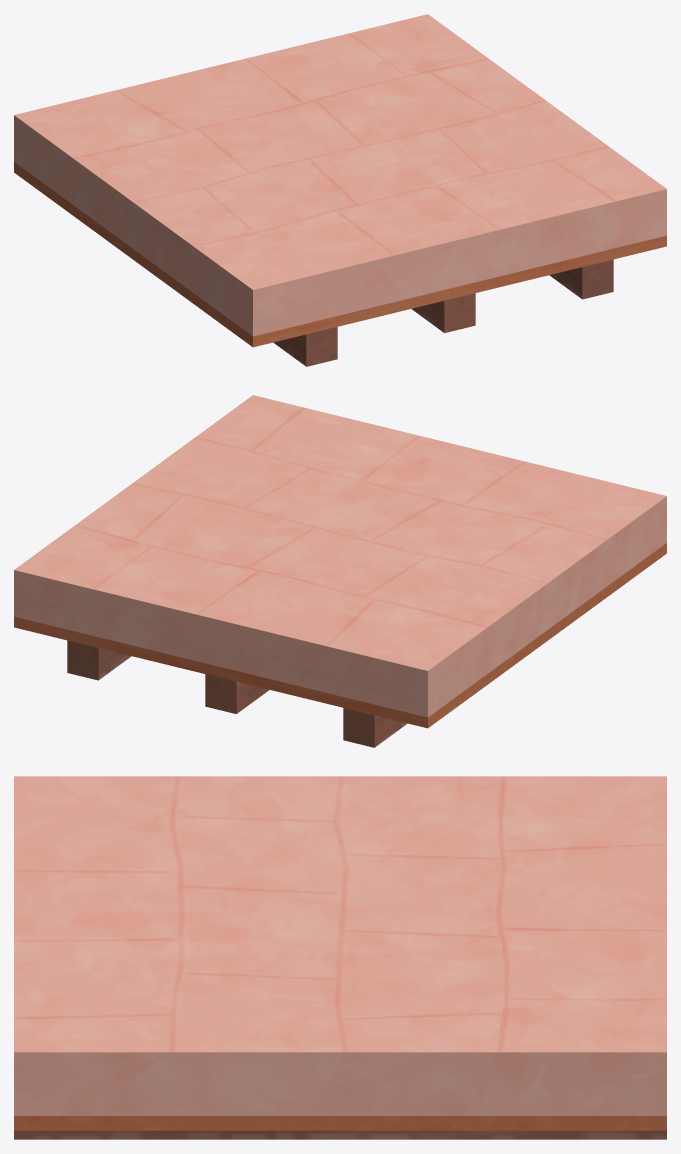
File: floor.bundle.fbx
3 renders of one model, top to bottom at view 1: azimuth 30°, elevation 25°; view 2: azimuth 150°, elevation 25°; view 3: azimuth 270°, elevation 25°, orthographic. The views are drawn at different scales.
Parts seen in each view (by area): view 1: floor, floor_s03, floor_s04, floor_s00, floor_s06, floor_s05, floor_s01, floor_s02; view 2: floor, floor_s03, floor_s02, floor_s04, floor_s00, floor_s06, floor_s05, floor_s01; view 3: floor, floor_s06, floor_s04, floor_s05, floor_s03, floor_s00, floor_s01, floor_s02.
Boxes of the visible parts, x1,y1,x2,y2 form: floor: [14, 14, 666, 366]; floor_s03: [14, 90, 428, 203]; floor_s04: [402, 71, 666, 255]; floor_s00: [46, 138, 322, 248]; floor_s06: [351, 182, 634, 330]; floor_s05: [307, 15, 501, 78]; floor_s01: [202, 224, 358, 365]; floor_s02: [119, 45, 435, 117]; floor: [14, 395, 666, 747]; floor_s03: [288, 486, 459, 746]; floor_s02: [138, 515, 328, 711]; floor_s04: [89, 396, 338, 533]; floor_s00: [450, 510, 612, 711]; floor_s06: [288, 405, 562, 512]; floor_s05: [14, 516, 143, 678]; floor_s01: [501, 473, 666, 554]; floor: [14, 776, 666, 1139]; floor_s06: [14, 845, 210, 1139]; floor_s04: [14, 951, 487, 1139]; floor_s05: [473, 970, 666, 1139]; floor_s03: [206, 776, 666, 949]; floor_s00: [161, 776, 577, 859]; floor_s01: [14, 776, 164, 848]; floor_s02: [332, 851, 666, 1009].
Size of the model in its own units: 8 by 1.66 by 8.
1 material, 1 textured.
